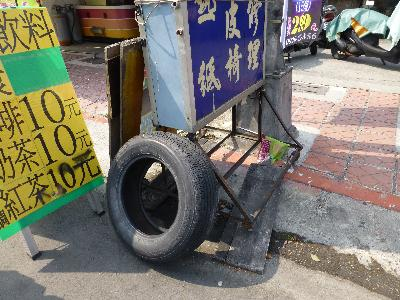tire: (105, 131, 219, 268)
